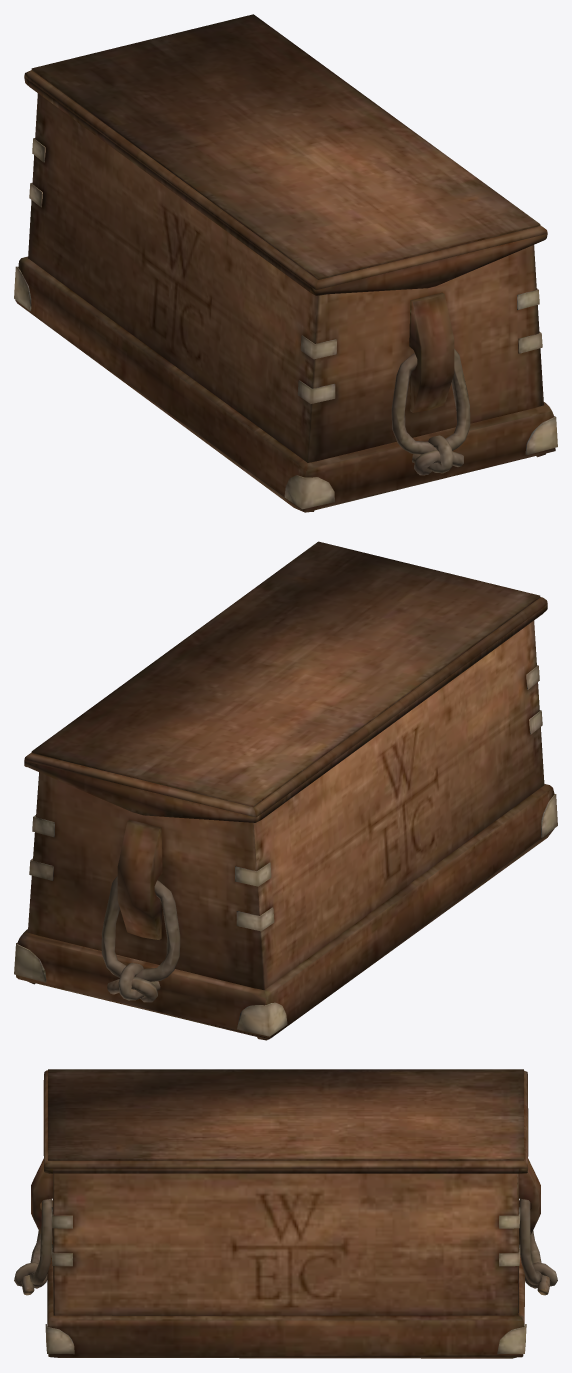
The model's file is wooden_crate_02.glb.
3 views of the same model, one above another, from view 1: azimuth 30°, elevation 25°; view 2: azimuth 150°, elevation 25°; view 3: azimuth 270°, elevation 25° (orthographic). The views are drawn at different scales.
Parts seen in each view (by area): view 1: wooden_crate_02_crate, wooden_crate_02_lid; view 2: wooden_crate_02_crate, wooden_crate_02_lid; view 3: wooden_crate_02_crate, wooden_crate_02_lid.
Part boxes in pixels (x1,y1,x2,y2): wooden_crate_02_crate: [14, 93, 557, 512]; wooden_crate_02_lid: [24, 14, 547, 295]; wooden_crate_02_crate: [14, 620, 557, 1040]; wooden_crate_02_lid: [24, 541, 547, 822]; wooden_crate_02_crate: [14, 1158, 557, 1358]; wooden_crate_02_lid: [43, 1069, 528, 1173].
Size of the model in its own units: 0.5291 by 0.464 by 1.17.
Materials: 1 (1 with a texture image).
